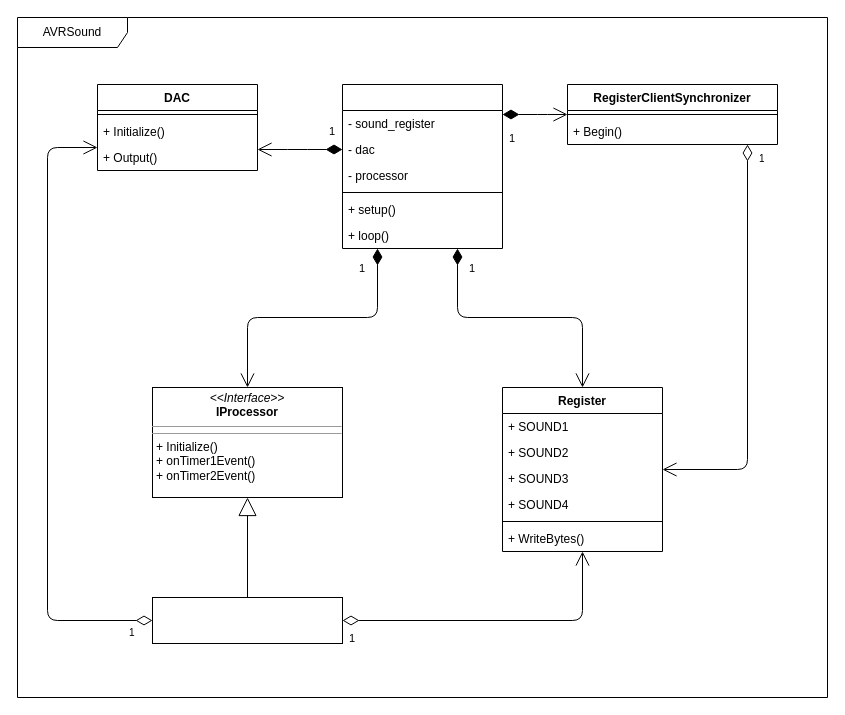
This 845x715 diagram has some shape labels left out. The shapes that lost their labels are listed below. From the top down, each one's box as (x1, y1, x2, y2) in pixels, then its label:
(342, 84, 502, 248): MainProcess
(152, 596, 342, 644): SquareWaveProcessor
